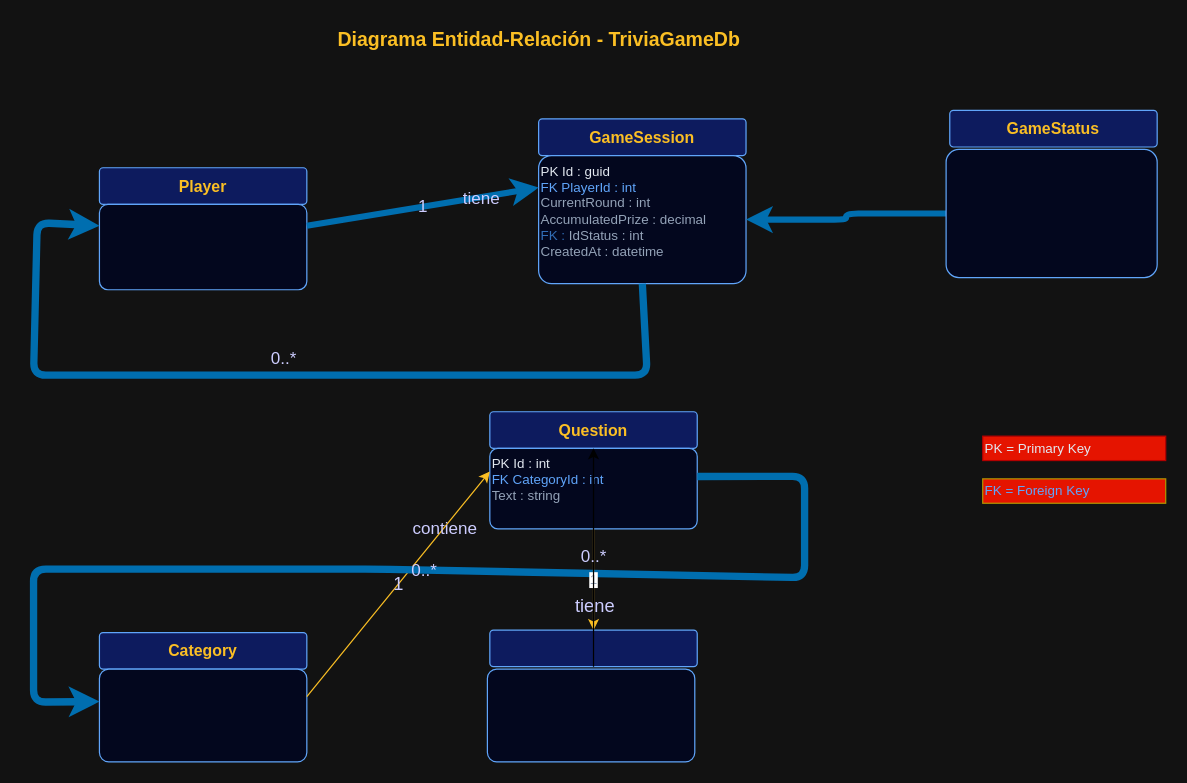
Image size: 1187x783. Some labels were removed from this diagram. Here are the shapes that lost their labels. From the top down, the centre of each, then its label:
the point at 1051,213: PK Id : int GameStatus: string AccumulatedPrize : decimal Active: int
the point at 202,246: PK id : int alias : string totalPointsAchieved : int
the point at 593,648: Option
the point at 202,715: PK Id : int Name : string DifficultyLevel : int Points : int
the point at 590,715: PK Id : int FK QuestionId : int Text : string IsCorrect : bool
